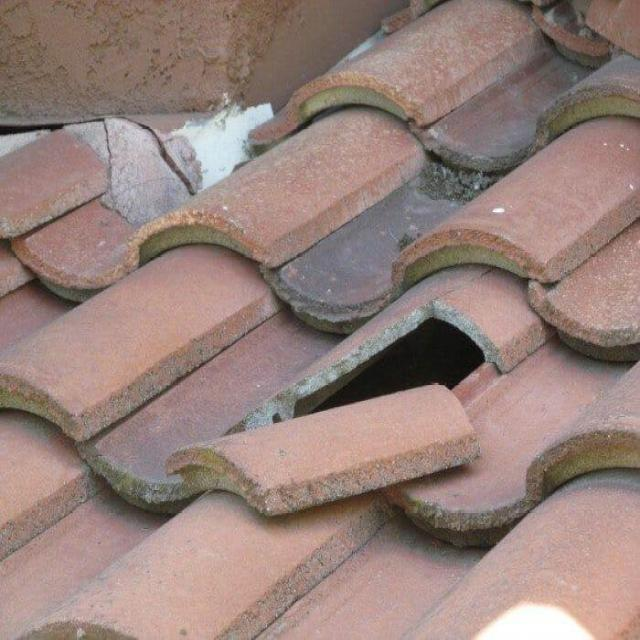trou: (229, 299, 500, 439)
